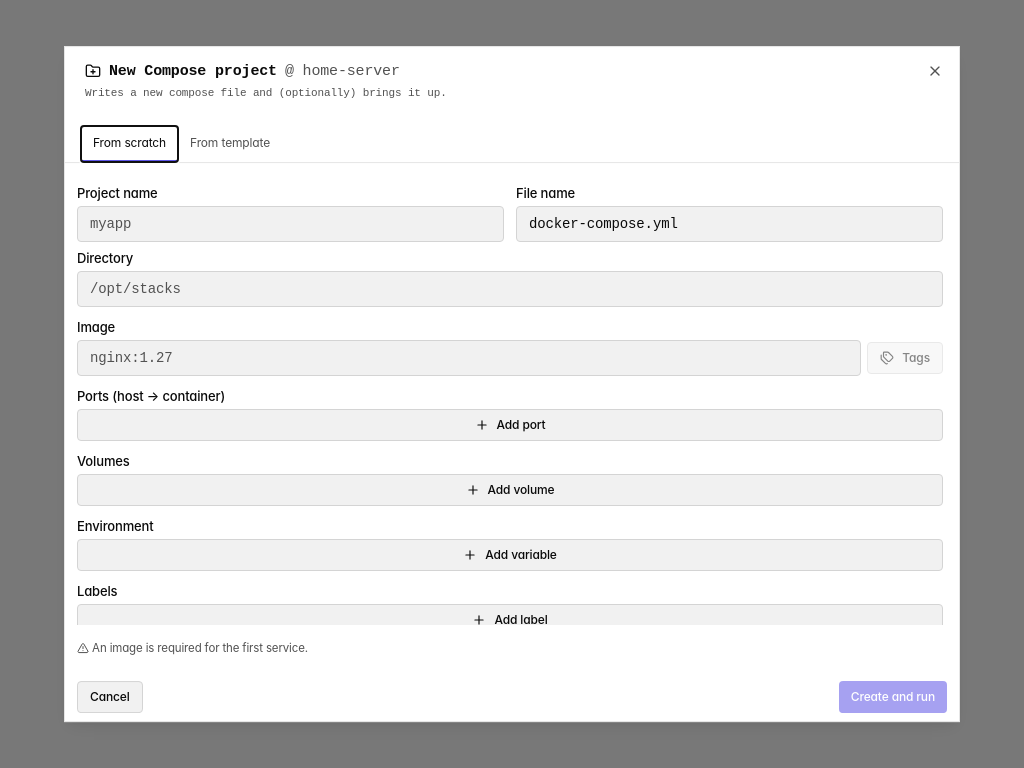
Test: ComposeNewProjectModal › rejects an uppercase (invalid) project name
The width and height of the screenshot is (1024, 768).
Type "MyApp" into the field named "Project name" at coordinates (290, 224), box [77, 206, 504, 242]
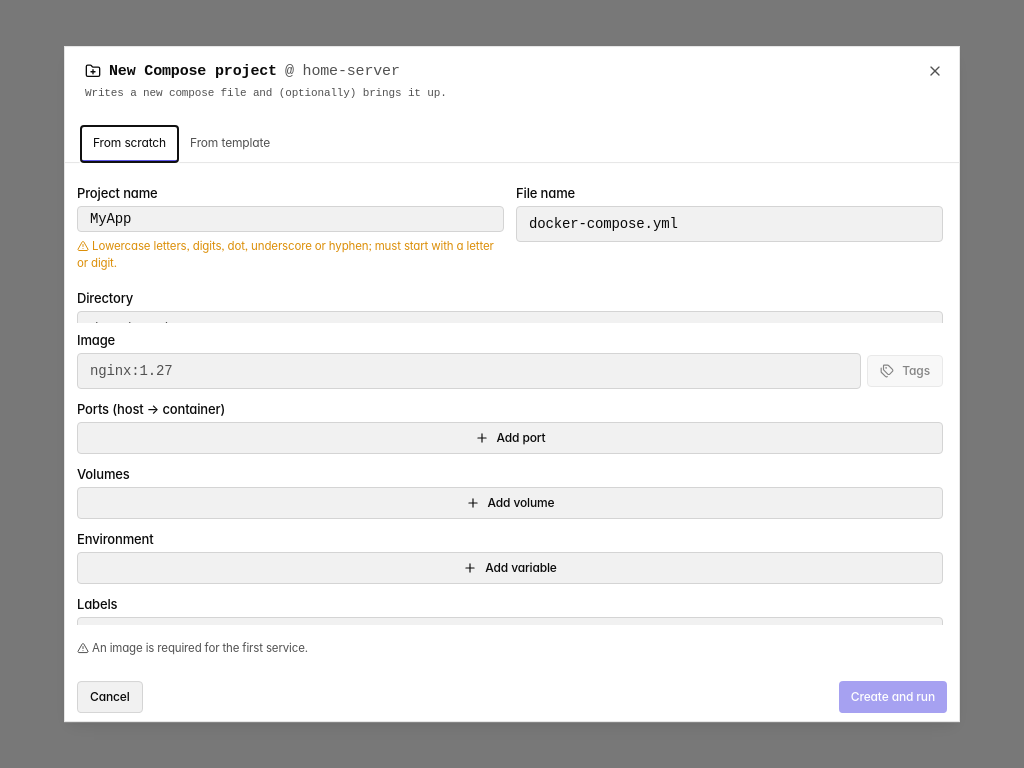
Expected: the message shows "Lowercase", [77, 239, 494, 270]
